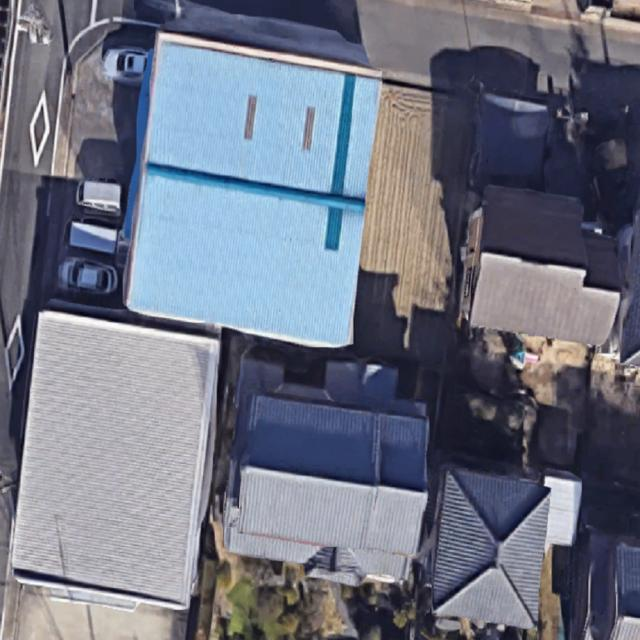Batiment: (128, 33, 381, 345), (12, 311, 219, 605), (225, 394, 429, 578), (461, 186, 621, 344), (432, 468, 550, 628)
